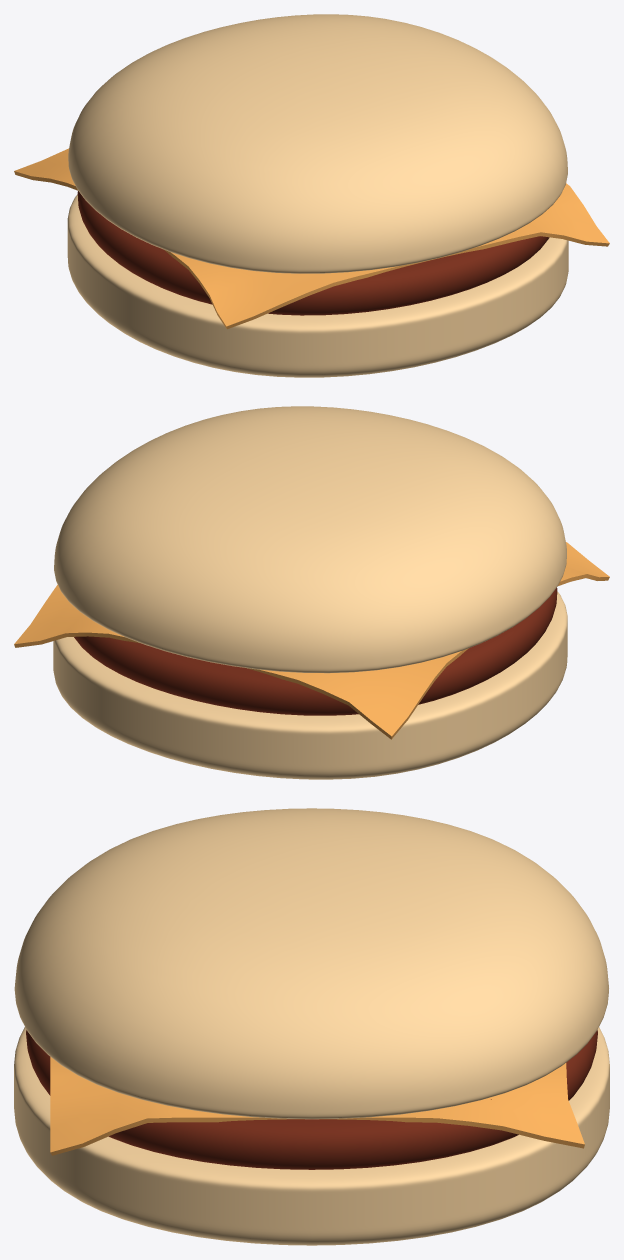
File: hamburger.glb
The picture shows the model from 3 angles, top to bottom: view 1: azimuth 30°, elevation 25°; view 2: azimuth 150°, elevation 25°; view 3: azimuth 270°, elevation 25°; orthographic projection. The views are drawn at different scales.
Parts seen in each view (by area): view 1: Cube.002, Cube, Cube.001, Plane; view 2: Cube.002, Cube, Cube.001, Plane; view 3: Cube.002, Cube, Cube.001, Plane.
Boxes of the visible parts, x1,y1,x2,y2 form: Cube.002: [68, 14, 567, 273]; Cube: [67, 194, 568, 377]; Cube.001: [77, 191, 549, 315]; Plane: [14, 148, 609, 329]; Cube.002: [54, 406, 566, 673]; Cube: [53, 591, 567, 779]; Cube.001: [74, 588, 557, 715]; Plane: [14, 542, 609, 739]; Cube.002: [14, 808, 608, 1119]; Cube: [14, 1027, 609, 1245]; Cube.001: [26, 1030, 597, 1169]; Plane: [50, 1057, 584, 1155].
Size of the model in its own units: 9.03 by 4.54 by 9.03.
